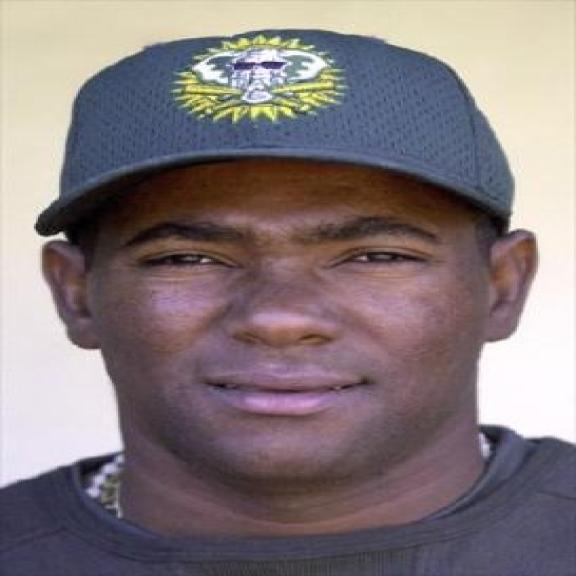face: (51, 185, 547, 491)
